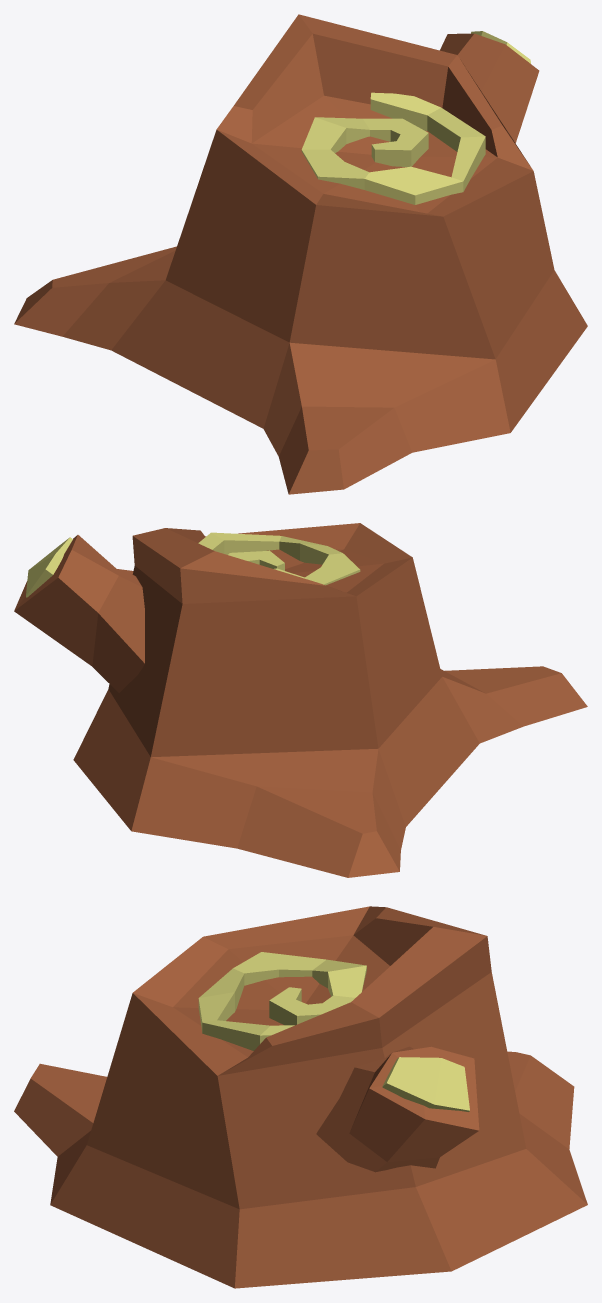
Rendered from Muzhuang1010.fbx.
3 views of the same model, one above another, from view 1: azimuth 30°, elevation 25°; view 2: azimuth 150°, elevation 25°; view 3: azimuth 270°, elevation 25° (orthographic). The views are drawn at different scales.
Parts seen in each view (by area): view 1: Muzhuang; view 2: Muzhuang; view 3: Muzhuang.
Part boxes in pixels (x1=…): Muzhuang: x1=14, y1=14, x2=587, y2=494; Muzhuang: x1=14, y1=523, x2=587, y2=877; Muzhuang: x1=14, y1=906, x2=587, y2=1288.
Size of the model in its own units: 174 by 95.12 by 181.
